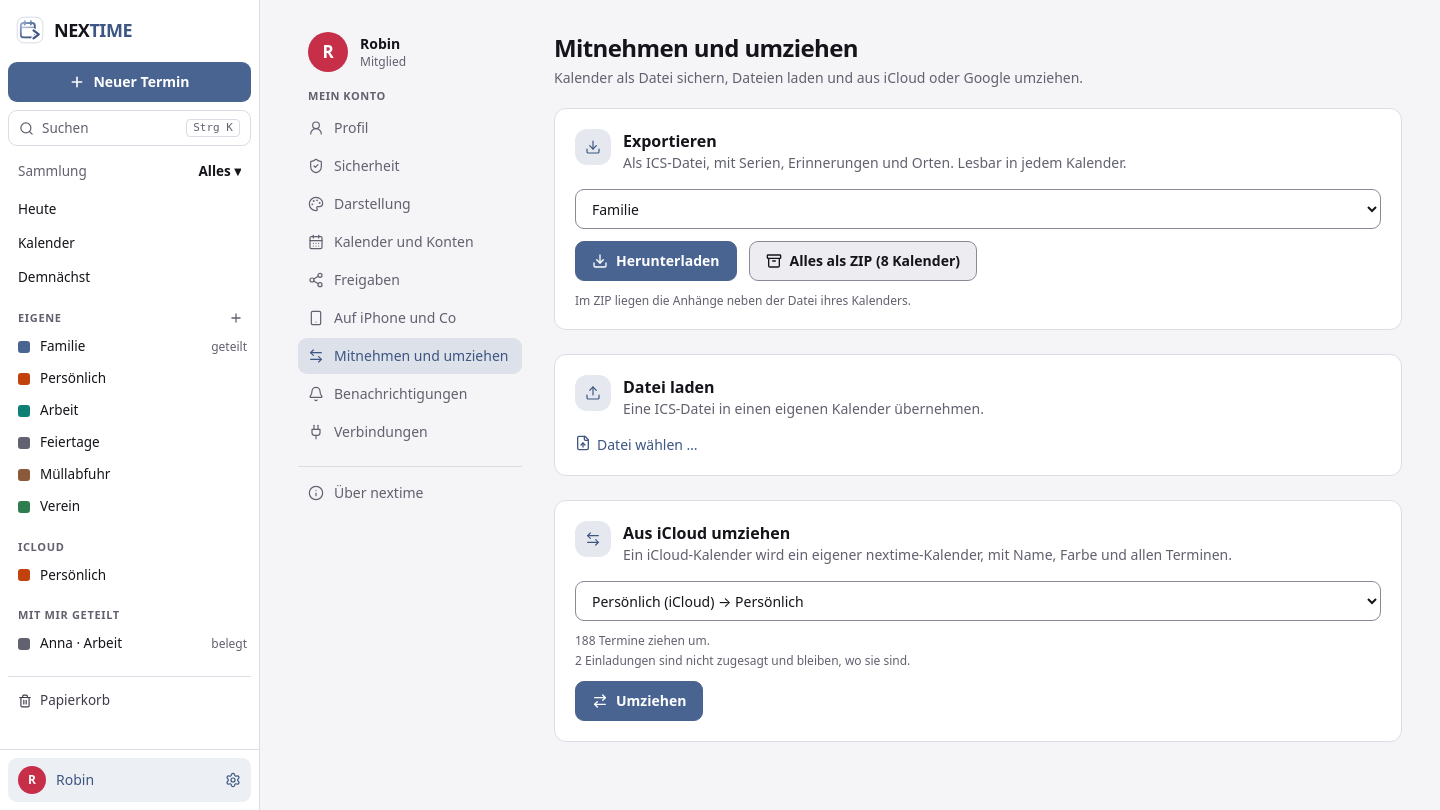
Test case: TIME-24 Mitnehmen und umziehen › TIME-24 AC-3 AC-4 AC-8 moving names "Persönlich (iCloud) → Persönlich", gives the result with reasons and leaves iCloud as it is
Step 1. Click the button "Umziehen" → [639, 701], box 575,681 -> 703,721
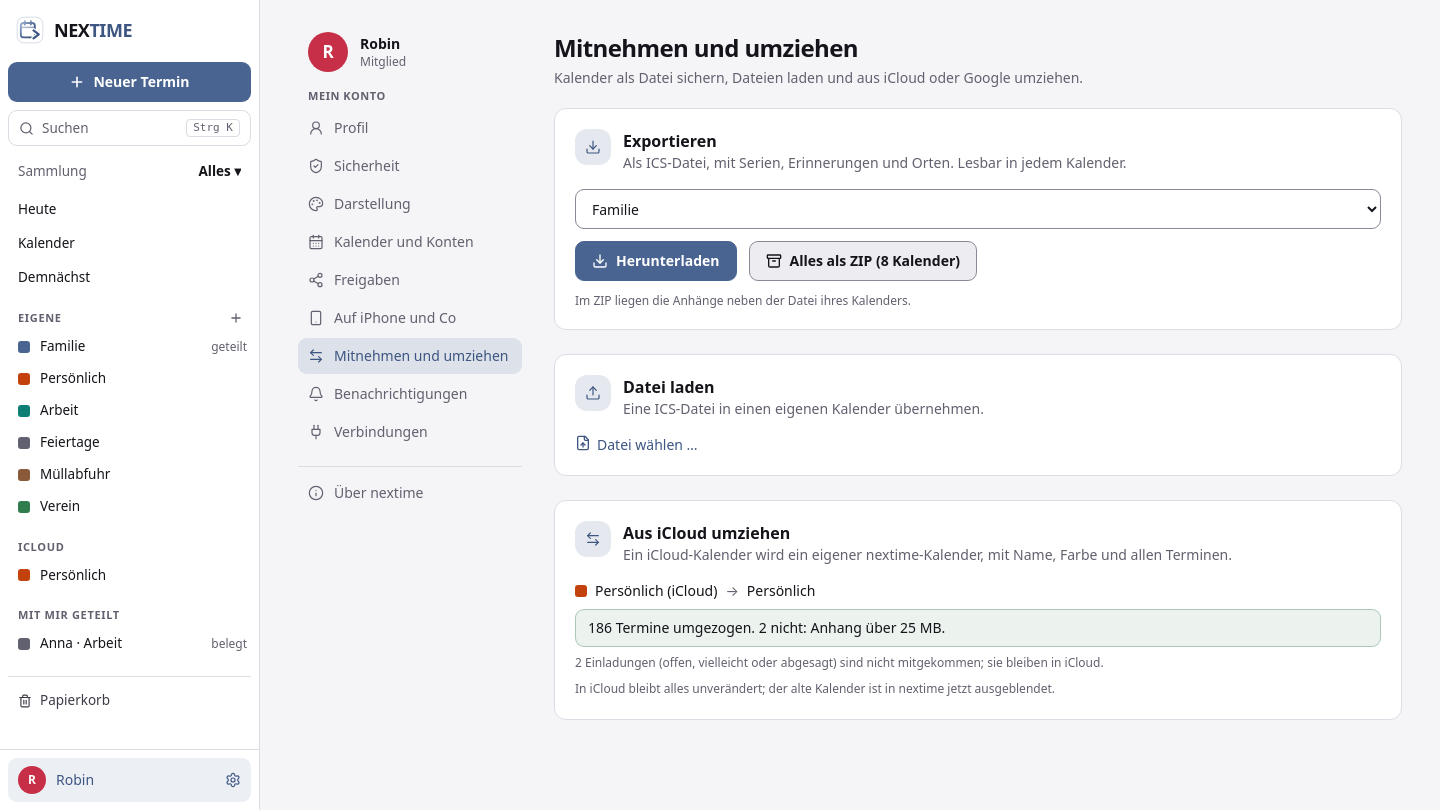
expect the message "186 Termine umgezogen. 2 nicht: Anhang über 25 MB." is shown: met, box 575,609 -> 1381,647
